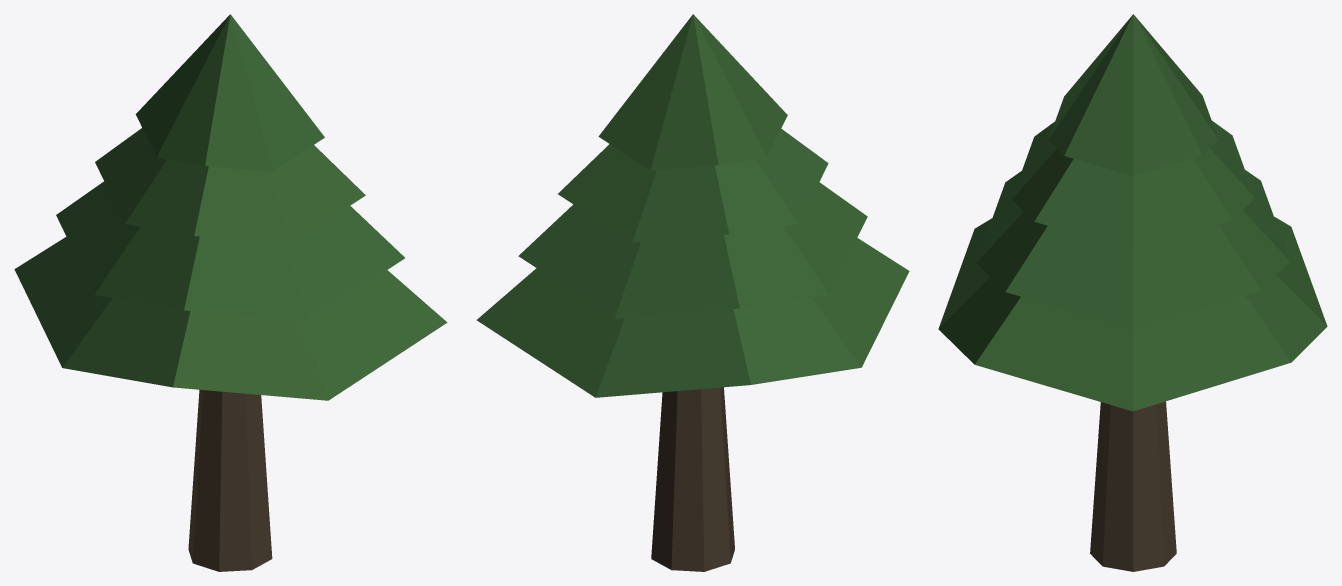
File: Pine.fbx
The picture shows the model from 3 angles, left to right: view 1: azimuth 30°, elevation 25°; view 2: azimuth 150°, elevation 25°; view 3: azimuth 270°, elevation 25°; orthographic projection.
Parts seen in each view (by area): view 1: Pine; view 2: Pine; view 3: Pine.
Boxes of the visible parts, left/top/right/bottom form: Pine: left=14, top=14, right=447, bottom=571; Pine: left=476, top=14, right=909, bottom=571; Pine: left=938, top=14, right=1327, bottom=571.
Bounding box in the file's own units: 1024 × 1567 × 1024.
